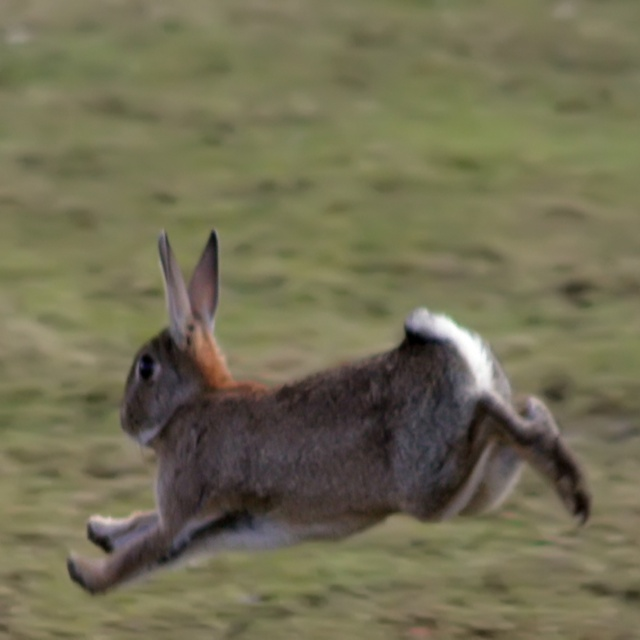Rabbit: (61, 227, 598, 596)
